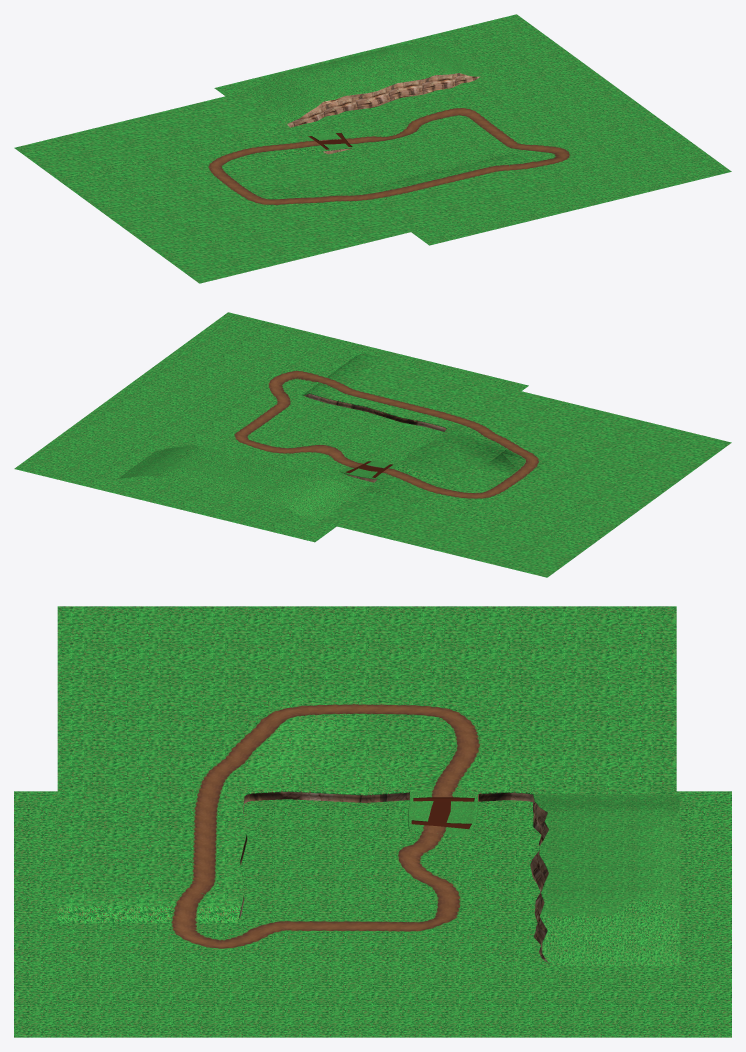
Rendered from NewTrack.FBX.
3 renders of one model, top to bottom at view 1: azimuth 30°, elevation 25°; view 2: azimuth 150°, elevation 25°; view 3: azimuth 270°, elevation 25°, orthographic. The views are drawn at different scales.
Parts seen in each view (by area): view 1: UpperPlane, Bottom Plane, Back CliffFace, Track, Ramp2; view 2: UpperPlane, Bottom Plane, Back CliffFace, Track, Ramp2; view 3: UpperPlane, Bottom Plane, Back CliffFace, Track, Ramp2, Water1.
Part boxes in pixels (x1=…): UpperPlane: x1=14, y1=92, x2=576, y2=283; Bottom Plane: x1=214, y1=14, x2=731, y2=245; Back CliffFace: x1=243, y1=44, x2=481, y2=127; Track: x1=208, y1=107, x2=570, y2=204; Ramp2: x1=303, y1=132, x2=358, y2=154; UpperPlane: x1=302, y1=353, x2=731, y2=577; Bottom Plane: x1=14, y1=312, x2=528, y2=542; Back CliffFace: x1=118, y1=444, x2=360, y2=522; Track: x1=234, y1=370, x2=539, y2=498; Ramp2: x1=339, y1=460, x2=400, y2=482; UpperPlane: x1=57, y1=606, x2=676, y2=922; Bottom Plane: x1=14, y1=791, x2=731, y2=1037; Back CliffFace: x1=530, y1=793, x2=679, y2=965; Track: x1=171, y1=704, x2=480, y2=948; Ramp2: x1=408, y1=791, x2=478, y2=836; Water1: x1=412, y1=798, x2=473, y2=828.
Size of the model in its own units: 1366 by 41.63 by 981.
